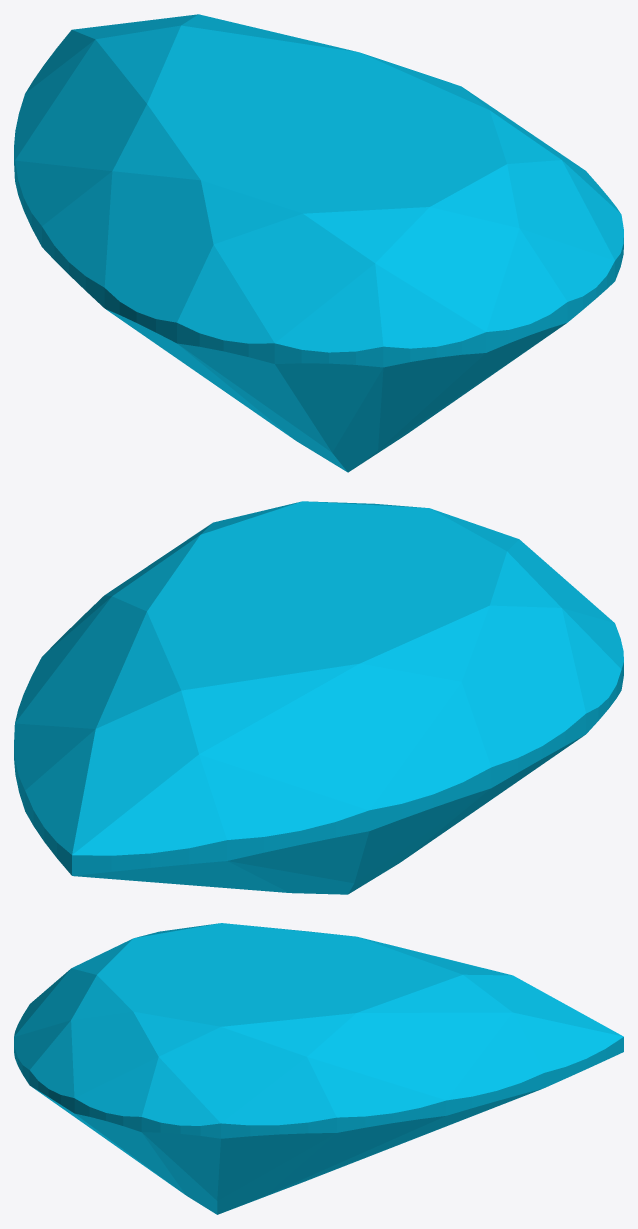
Rendered from Head_No Halo_Pear_1.0ct_Diamond.glb.
3 views of the same model, one above another, from view 1: azimuth 30°, elevation 25°; view 2: azimuth 150°, elevation 25°; view 3: azimuth 270°, elevation 25° (orthographic). The views are drawn at different scales.
Bounding box in the file's own units: 0.0056 × 0.00363 × 0.00835.
